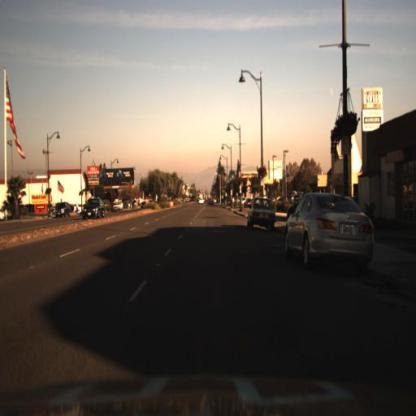car: (284, 190, 378, 265), (246, 194, 279, 233), (247, 196, 278, 228), (80, 196, 107, 223), (110, 197, 126, 213), (56, 204, 71, 220)
